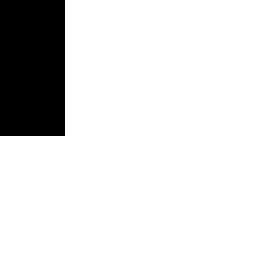rumex: (65, 0, 256, 256), (0, 136, 65, 256)
